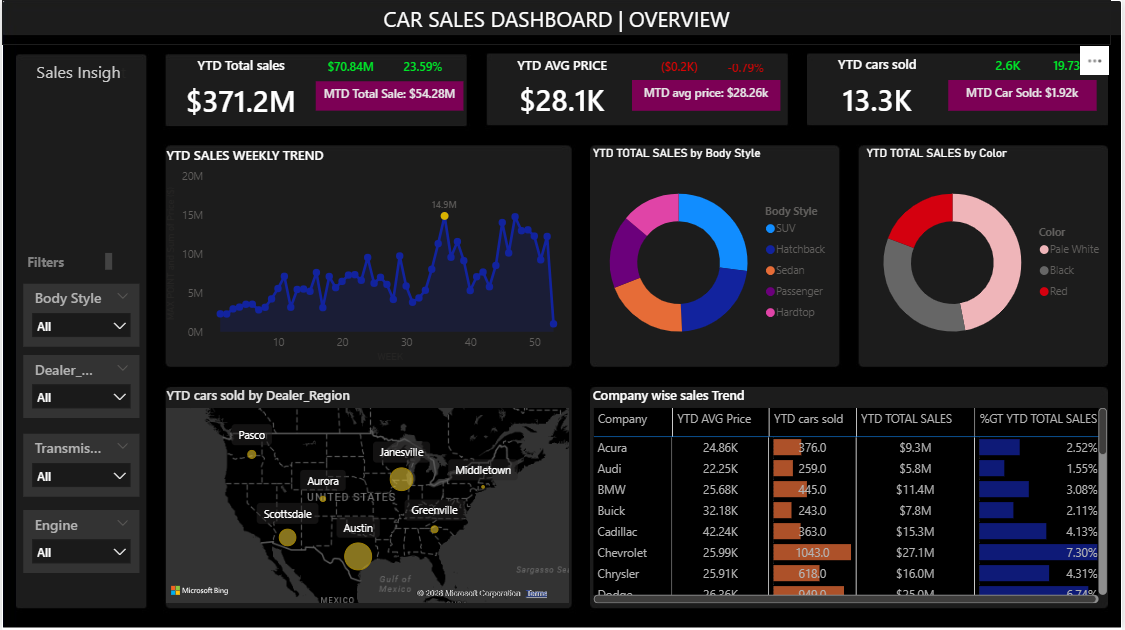

Layout of this report page (visuals, bound fields, positions):
{"tool":"powerbi","page":{"name":"OVERVIEW","canvas":[1280,720],"ordinal":0},"visuals":[{"type":"card","title":"YTD Total sales","fields":{"Values":["car_data.YTD TOTAL SALES"]},"box":[192.3,63.8,160.8,81.5],"z":0},{"type":"card","title":"Total sales","fields":{"Values":["car_data.sales difference"]},"box":[352.5,63.8,91.2,28.8],"z":1000},{"type":"card","title":"Total sales","fields":{"Values":["car_data.yoy sales growth"]},"box":[436.4,63.6,90.9,29.1],"z":2000},{"type":"card","fields":{"Values":["car_data.MTD kpi"]},"box":[358.8,92.5,168.8,33.8],"z":3000},{"type":"card","title":"YTD AVG PRICE","fields":{"Values":["car_data.AVG Price"]},"box":[560,63.8,160,81.2],"z":4000},{"type":"card","title":"Total sales","fields":{"Values":["car_data.YOY AVG PRICE GROWTH"]},"box":[803.8,63.8,91.2,23.8],"z":5000},{"type":"card","title":"Total sales","fields":{"Values":["car_data.Avg price diff"]},"box":[728.8,63.8,91.2,28.8],"z":6000},{"type":"card","fields":{"Values":["car_data.MTD  Avg Price KPI"]},"box":[720.4,92.1,169.2,34.8],"z":7000},{"type":"card","title":"YTD cars sold","fields":{"Values":["car_data.YTD cars sold"]},"box":[920.7,63.5,160.5,82.1],"z":8000},{"type":"card","title":"Total sales","fields":{"Values":["car_data.yoy car sold growth"]},"box":[1177,62.2,90.8,29.9],"z":9000},{"type":"card","title":"Total sales","fields":{"Values":["car_data.car sold diff"]},"box":[1104.8,63.5,90.8,28.6],"z":10000},{"type":"card","fields":{"Values":["car_data.MTD Car Sold KPI"]},"box":[1081.2,92.1,169.2,34.8],"z":11000},{"type":"areaChart","title":"YTD SALES WEEKLY TREND","fields":{"Category":["Calendar table.WEEK"],"Y":["car_data.MAX POINT","Sum(car_data.Price ($))"]},"box":[183,167,470,252],"z":12000},{"type":"donutChart","fields":{"Category":["car_data.Body Style"],"Y":["car_data.YTD TOTAL SALES"]},"box":[670,167,285,252],"z":13000},{"type":"donutChart","fields":{"Y":["car_data.YTD TOTAL SALES"],"Category":["car_data.Color"]},"box":[983,167,285,252],"z":14000},{"type":"map","fields":{"Category":["car_data.Dealer_Region"],"Size":["car_data.YTD cars sold"]},"box":[182.8,441.7,469.9,252.8],"z":15000},{"type":"tableEx","title":"Company wise sales Trend","fields":{"Values":["car_data.Company","car_data.YTD AVG Price","car_data.YTD cars sold","car_data.YTD TOTAL SALES1","car_data.YTD TOTAL SALES"]},"box":[669.9,441.7,597.5,252.8],"z":15001},{"type":"textbox","box":[0,0,1267.5,51.5],"z":15002},{"type":"slicer","fields":{"Values":["car_data.Body Style"]},"box":[24.5,323.9,132.5,72.4],"z":15003},{"type":"slicer","fields":{"Values":["car_data.Dealer_Name"]},"box":[24.5,406.1,132.5,72.4],"z":15004},{"type":"slicer","fields":{"Values":["car_data.Transmission"]},"box":[24.5,495.7,132.5,72.4],"z":15005},{"type":"slicer","fields":{"Values":["car_data.Engine"]},"box":[24.5,582.8,132.5,72.4],"z":15006},{"type":"textbox","box":[24.5,284.7,106.7,29.4],"z":15007},{"type":"textbox","box":[24.5,63.8,132.5,45.4],"z":15008}]}

Visuals, with their boxes in screenshot pixels (x1, y1, x2, y2), scaled from the page's 1280x720 canvas onto the 1125x630 screenshot:
"YTD Total sales" card: {"x1": 169, "y1": 56, "x2": 310, "y2": 127}
"Total sales" card: {"x1": 310, "y1": 56, "x2": 390, "y2": 81}
"Total sales" card: {"x1": 384, "y1": 56, "x2": 463, "y2": 81}
card - car_data.MTD kpi: {"x1": 315, "y1": 81, "x2": 464, "y2": 111}
"YTD AVG PRICE" card: {"x1": 492, "y1": 56, "x2": 633, "y2": 127}
"Total sales" card: {"x1": 706, "y1": 56, "x2": 787, "y2": 77}
"Total sales" card: {"x1": 641, "y1": 56, "x2": 721, "y2": 81}
card - car_data.MTD  Avg Price KPI: {"x1": 633, "y1": 81, "x2": 782, "y2": 111}
"YTD cars sold" card: {"x1": 809, "y1": 56, "x2": 950, "y2": 127}
"Total sales" card: {"x1": 1034, "y1": 54, "x2": 1114, "y2": 81}
"Total sales" card: {"x1": 971, "y1": 56, "x2": 1051, "y2": 81}
card - car_data.MTD Car Sold KPI: {"x1": 950, "y1": 81, "x2": 1099, "y2": 111}
"YTD SALES WEEKLY TREND" areaChart: {"x1": 161, "y1": 146, "x2": 574, "y2": 367}
donutChart - car_data.Body Style x car_data.YTD TOTAL SALES: {"x1": 589, "y1": 146, "x2": 839, "y2": 367}
donutChart - car_data.YTD TOTAL SALES x car_data.Color: {"x1": 864, "y1": 146, "x2": 1114, "y2": 367}
map - car_data.Dealer_Region x car_data.YTD cars sold: {"x1": 161, "y1": 386, "x2": 574, "y2": 608}
"Company wise sales Trend" tableEx: {"x1": 589, "y1": 386, "x2": 1114, "y2": 608}
textbox: {"x1": 0, "y1": 0, "x2": 1114, "y2": 45}
slicer - car_data.Body Style: {"x1": 22, "y1": 283, "x2": 138, "y2": 347}
slicer - car_data.Dealer_Name: {"x1": 22, "y1": 355, "x2": 138, "y2": 419}
slicer - car_data.Transmission: {"x1": 22, "y1": 434, "x2": 138, "y2": 497}
slicer - car_data.Engine: {"x1": 22, "y1": 510, "x2": 138, "y2": 573}
textbox: {"x1": 22, "y1": 249, "x2": 115, "y2": 275}
textbox: {"x1": 22, "y1": 56, "x2": 138, "y2": 96}
